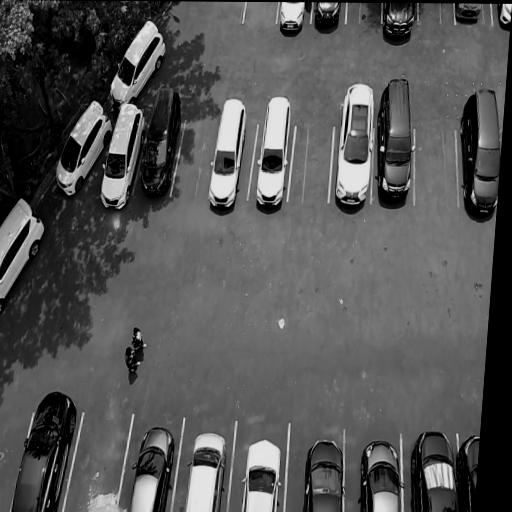Car: (9, 383, 81, 512), (47, 91, 115, 211), (369, 73, 423, 207), (331, 78, 381, 218), (248, 84, 297, 219), (105, 11, 170, 110), (96, 97, 150, 212), (203, 90, 251, 217), (0, 187, 49, 307), (459, 80, 500, 220), (139, 80, 186, 197), (405, 428, 463, 512), (126, 425, 178, 512), (300, 434, 350, 512), (354, 439, 407, 512), (183, 430, 230, 512), (238, 435, 285, 512), (453, 426, 481, 512), (380, 3, 417, 43), (274, 2, 310, 43), (310, 3, 342, 34), (450, 3, 485, 29), (492, 4, 512, 36)
Space Available: (63, 409, 133, 512), (171, 118, 218, 196), (288, 124, 334, 202), (415, 128, 457, 206), (417, 3, 455, 25), (242, 2, 279, 24), (346, 3, 382, 25)
